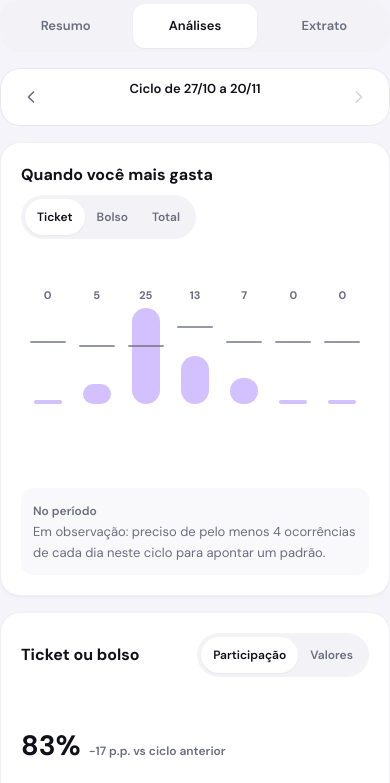
Test: Ticket em três abas › Análises: tocar no dia atualiza o detalhe e o 'Ver lançamentos' abre o Extrato filtrado
Click the button with aria-label "Quarta-feira: média": click(146, 355) [123,287,168,424]
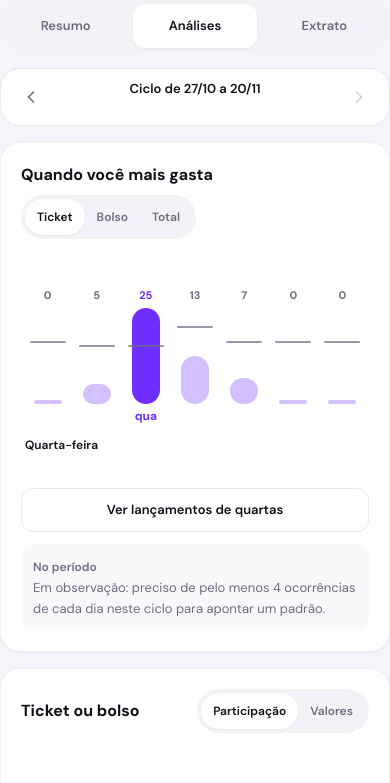
Result: the element with test id "weekday-avg-detail" shows "Quarta-feira" at [25,436,98,452]
Click the button with aria-label "Sábado: média": click(293, 355) [271,287,316,424]
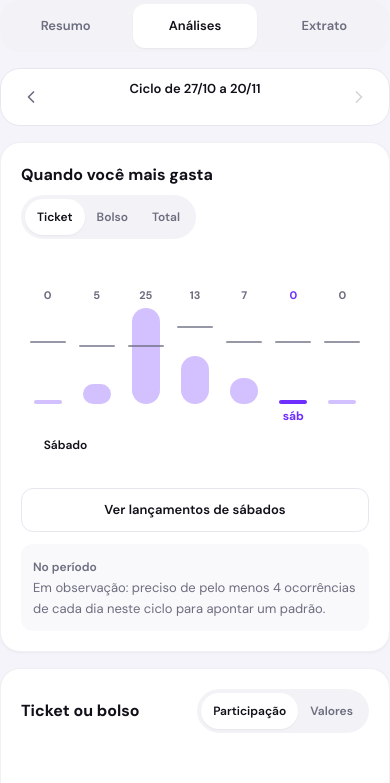
Result: the text with test id "weekday-avg-detail" no longer shows "Quarta-feira"
Click the button "Ver lançamentos de sábados": click(195, 510) [21,488,369,532]
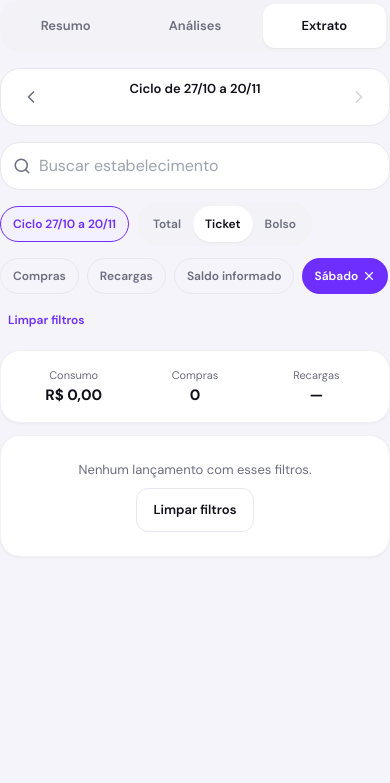
Result: the button "Sábado" is shown at [302,258,388,294]
Result: the element with test id "ticket-statement" is shown at [0,142,389,608]
